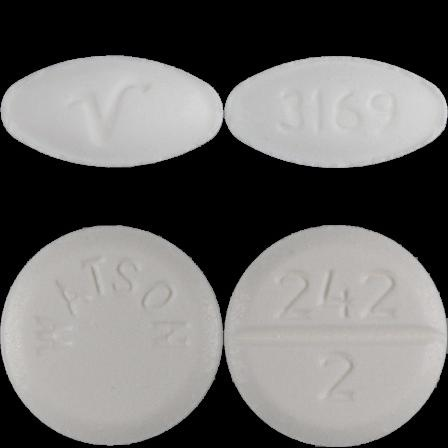55289-593: (0, 0, 224, 224)
